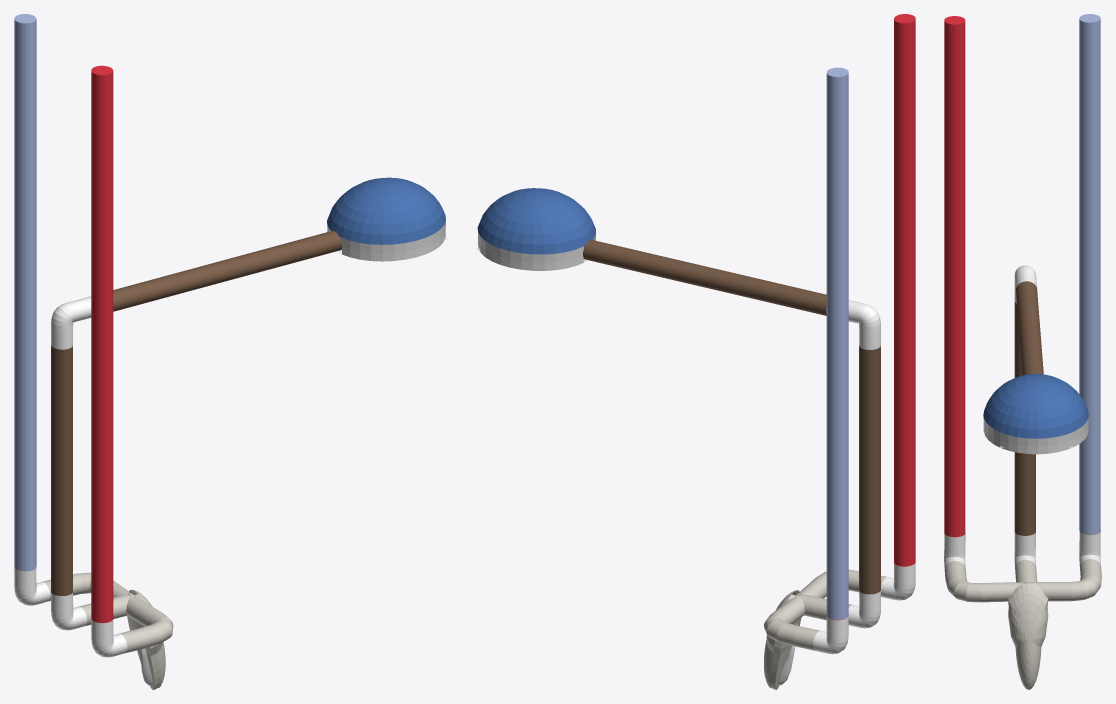
The model's file is ducha.glb.
3 renders of one model, left to right at view 1: azimuth 30°, elevation 25°; view 2: azimuth 150°, elevation 25°; view 3: azimuth 270°, elevation 25°, orthographic. The views are drawn at different scales.
Visible parts, largest first — view 1: Cylinder.002; view 2: Cylinder.002; view 3: Cylinder.002.
Boxes of the visible parts, <box> form: Cylinder.002: <box>14,14,445,689</box>; Cylinder.002: <box>477,14,915,689</box>; Cylinder.002: <box>944,14,1101,689</box>.
Bounding box in the file's own units: 21 × 34.09 × 7.78.
